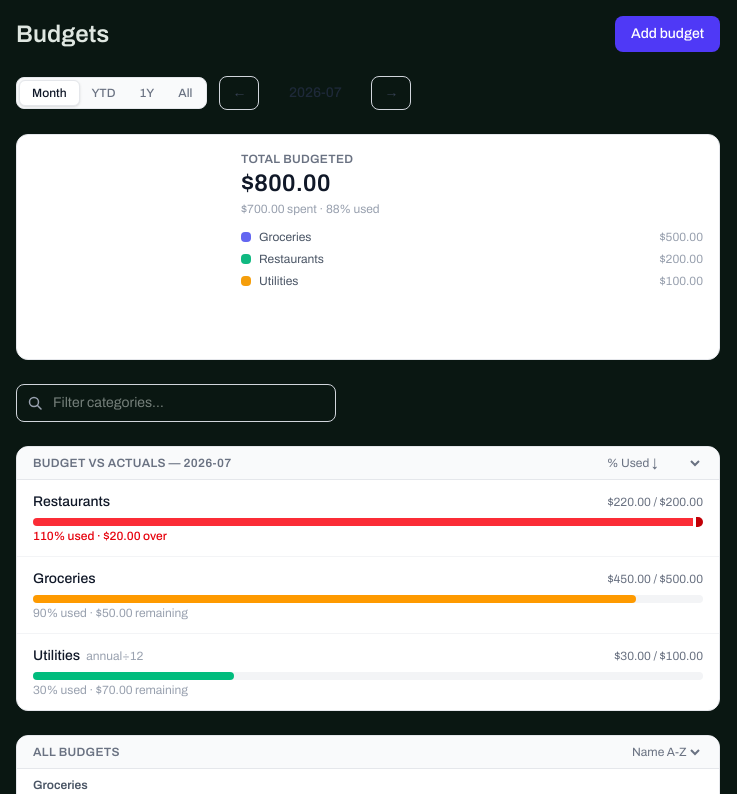
Test: filter bar › count badge appears when filter is active (Budget vs Actuals count)
In the field with placeholder "Filter categories…": point(176, 403) [16,384,336,422], type "g"
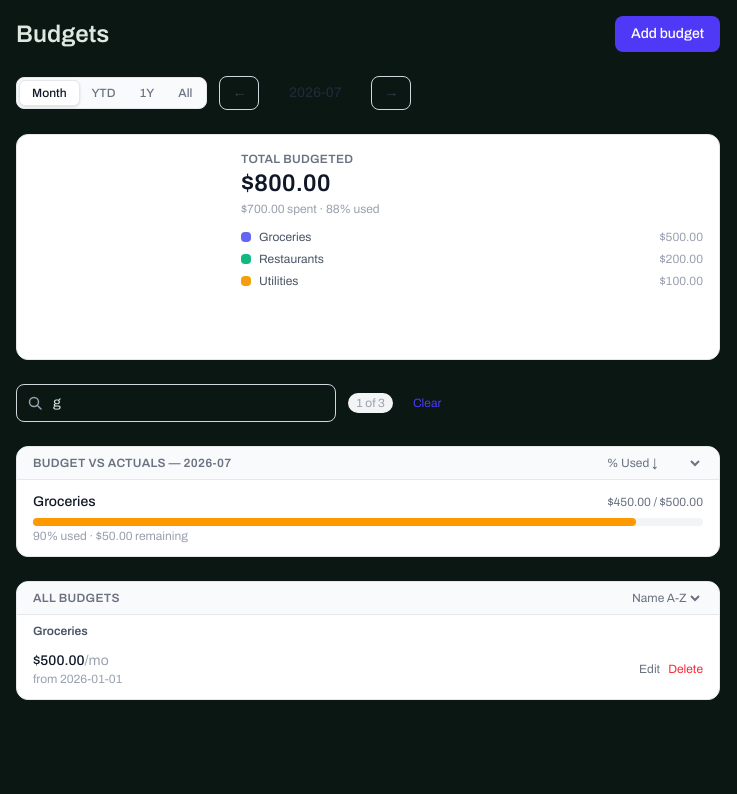
Expected: the text "1 of 3" is shown, [348,393,393,413]
